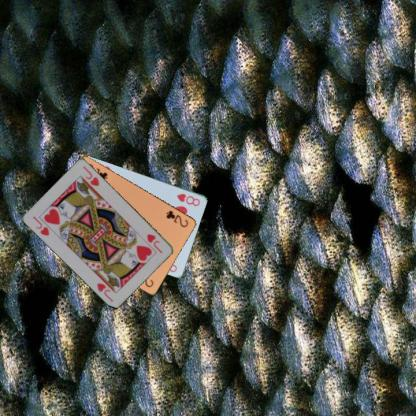2c: (164, 207, 190, 229)
8h: (175, 191, 201, 208)
Jh: (30, 214, 51, 237), (145, 231, 164, 255)
